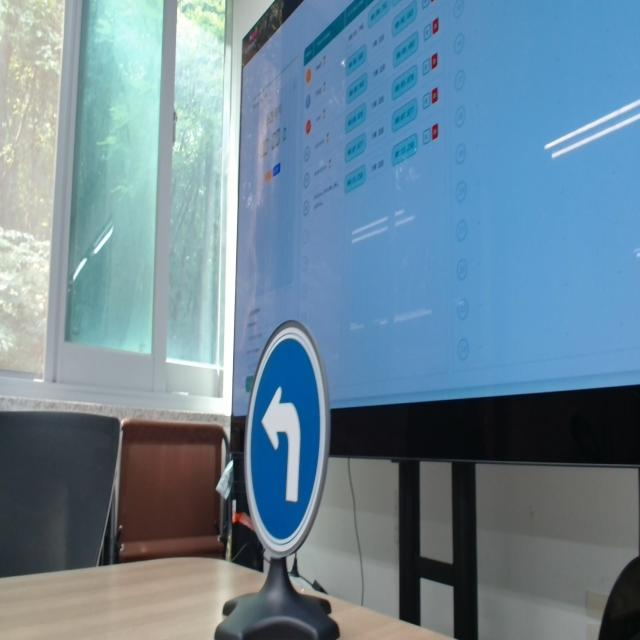left_direction: (230, 306, 346, 570)
